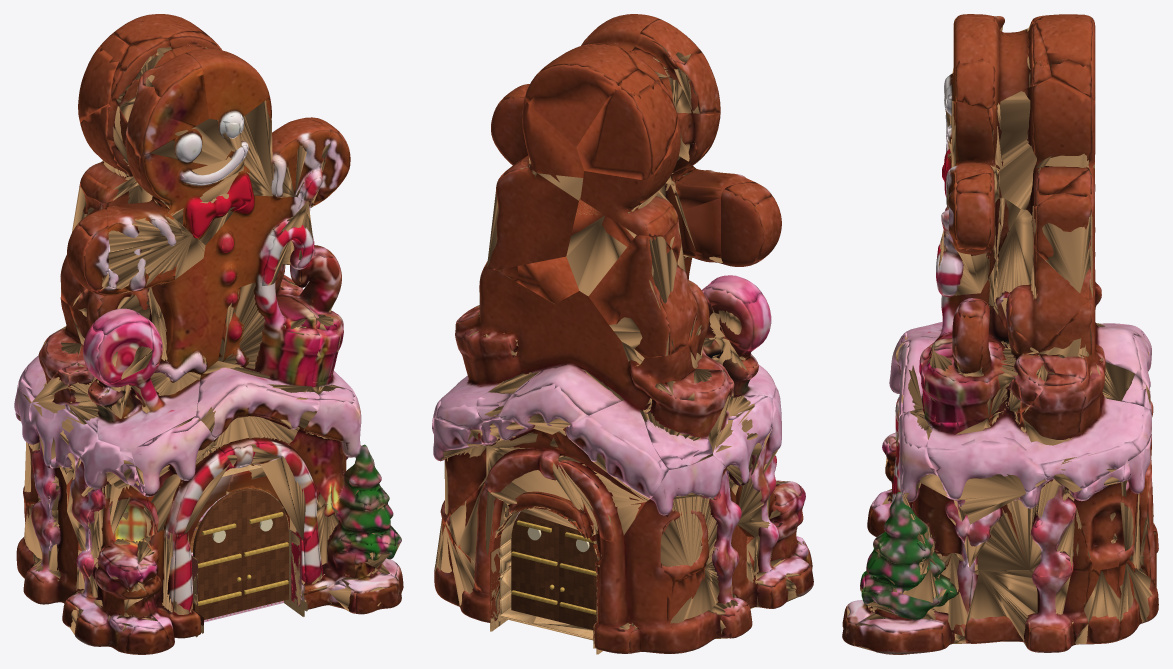
The model's file is GIN_HD_HolidayHideaway_Fractured.fbx.
3 views of the same model, side by side, from view 1: azimuth 30°, elevation 25°; view 2: azimuth 150°, elevation 25°; view 3: azimuth 270°, elevation 25° (orthographic). The views are drawn at different scales.
Parts seen in each view (by area): view 1: GIN_HD_HolidayHideaway_Frag_33, GIN_HD_HolidayHideaway_Frag_12, GIN_HD_HolidayHideaway_Frag_39, GIN_HD_HolidayHideaway_Frag_08, GIN_HD_HolidayHideaway_Frag_03, GIN_HD_HolidayHideaway_Frag_24, GIN_HD_HolidayHideaway_Frag_17, GIN_HD_HolidayHideaway_Frag_11, GIN_HD_HolidayHideaway_Frag_30, GIN_HD_HolidayHideaway_Frag_51, GIN_HD_HolidayHideaway_Frag_01, GIN_HD_HolidayHideaway_Frag_09 (+22 smaller); view 2: GIN_HD_HolidayHideaway_Frag_22, GIN_HD_HolidayHideaway_Frag_40, GIN_HD_HolidayHideaway_Frag_19, GIN_HD_HolidayHideaway_Frag_34, GIN_HD_HolidayHideaway_Frag_42, GIN_HD_HolidayHideaway_Frag_31, GIN_HD_HolidayHideaway_Frag_14, GIN_HD_HolidayHideaway_Frag_16, GIN_HD_HolidayHideaway_Frag_48, GIN_HD_HolidayHideaway_Frag_27, GIN_HD_HolidayHideaway_Frag_13, GIN_HD_HolidayHideaway_Frag_32 (+21 smaller); view 3: GIN_HD_HolidayHideaway_Frag_25, GIN_HD_HolidayHideaway_Frag_18, GIN_HD_HolidayHideaway_Frag_23, GIN_HD_HolidayHideaway_Frag_43, GIN_HD_HolidayHideaway_Frag_38, GIN_HD_HolidayHideaway_Frag_28, GIN_HD_HolidayHideaway_Frag_11, GIN_HD_HolidayHideaway_Frag_02, GIN_HD_HolidayHideaway_Frag_21, GIN_HD_HolidayHideaway_Frag_13, GIN_HD_HolidayHideaway_Frag_15, GIN_HD_HolidayHideaway_Frag_01 (+15 smaller).
Boxes of the visible parts, left/top/right/bottom form: GIN_HD_HolidayHideaway_Frag_33: left=196, top=361, right=320, bottom=468; GIN_HD_HolidayHideaway_Frag_12: left=140, top=118, right=252, bottom=244; GIN_HD_HolidayHideaway_Frag_39: left=111, top=38, right=208, bottom=156; GIN_HD_HolidayHideaway_Frag_08: left=66, top=440, right=156, bottom=567; GIN_HD_HolidayHideaway_Frag_03: left=131, top=416, right=233, bottom=534; GIN_HD_HolidayHideaway_Frag_24: left=203, top=195, right=315, bottom=291; GIN_HD_HolidayHideaway_Frag_17: left=218, top=265, right=320, bottom=379; GIN_HD_HolidayHideaway_Frag_11: left=293, top=380, right=389, bottom=511; GIN_HD_HolidayHideaway_Frag_30: left=62, top=556, right=171, bottom=654; GIN_HD_HolidayHideaway_Frag_51: left=137, top=258, right=232, bottom=374; GIN_HD_HolidayHideaway_Frag_01: left=289, top=499, right=395, bottom=611; GIN_HD_HolidayHideaway_Frag_09: left=86, top=359, right=200, bottom=450; GIN_HD_HolidayHideaway_Frag_22: left=499, top=291, right=632, bottom=434; GIN_HD_HolidayHideaway_Frag_40: left=552, top=397, right=668, bottom=541; GIN_HD_HolidayHideaway_Frag_19: left=621, top=456, right=741, bottom=583; GIN_HD_HolidayHideaway_Frag_34: left=588, top=235, right=697, bottom=357; GIN_HD_HolidayHideaway_Frag_42: left=459, top=266, right=554, bottom=421; GIN_HD_HolidayHideaway_Frag_31: left=631, top=344, right=729, bottom=469; GIN_HD_HolidayHideaway_Frag_14: left=480, top=418, right=597, bottom=538; GIN_HD_HolidayHideaway_Frag_16: left=532, top=533, right=666, bottom=654; GIN_HD_HolidayHideaway_Frag_48: left=576, top=69, right=677, bottom=179; GIN_HD_HolidayHideaway_Frag_27: left=662, top=525, right=757, bottom=653; GIN_HD_HolidayHideaway_Frag_13: left=485, top=161, right=578, bottom=269; GIN_HD_HolidayHideaway_Frag_32: left=580, top=112, right=719, bottom=236; GIN_HD_HolidayHideaway_Frag_25: left=987, top=77, right=1095, bottom=209; GIN_HD_HolidayHideaway_Frag_18: left=920, top=300, right=1047, bottom=422; GIN_HD_HolidayHideaway_Frag_23: left=1021, top=372, right=1151, bottom=492; GIN_HD_HolidayHideaway_Frag_43: left=927, top=410, right=1045, bottom=524; GIN_HD_HolidayHideaway_Frag_38: left=964, top=570, right=1088, bottom=652; GIN_HD_HolidayHideaway_Frag_28: left=962, top=480, right=1093, bottom=577; GIN_HD_HolidayHideaway_Frag_11: left=873, top=408, right=969, bottom=563; GIN_HD_HolidayHideaway_Frag_02: left=980, top=209, right=1088, bottom=351; GIN_HD_HolidayHideaway_Frag_21: left=944, top=17, right=1051, bottom=109; GIN_HD_HolidayHideaway_Frag_13: left=1027, top=164, right=1095, bottom=300; GIN_HD_HolidayHideaway_Frag_15: left=1074, top=435, right=1151, bottom=569; GIN_HD_HolidayHideaway_Frag_01: left=860, top=549, right=972, bottom=635.
Bounding box in the file's own units: 2006 × 3472 × 1767.
